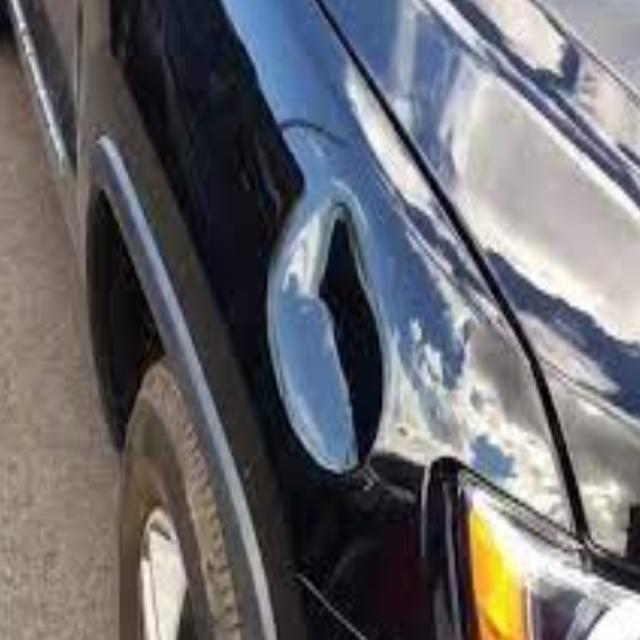dents: (262, 167, 390, 491)
